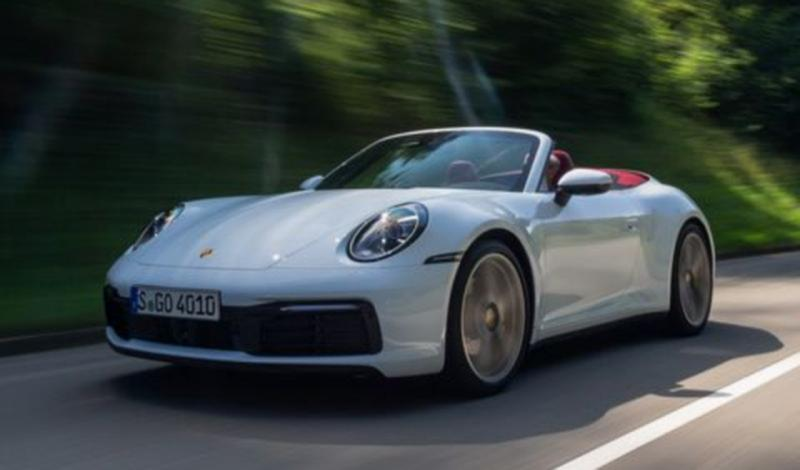porsche: (194, 244, 221, 261)
